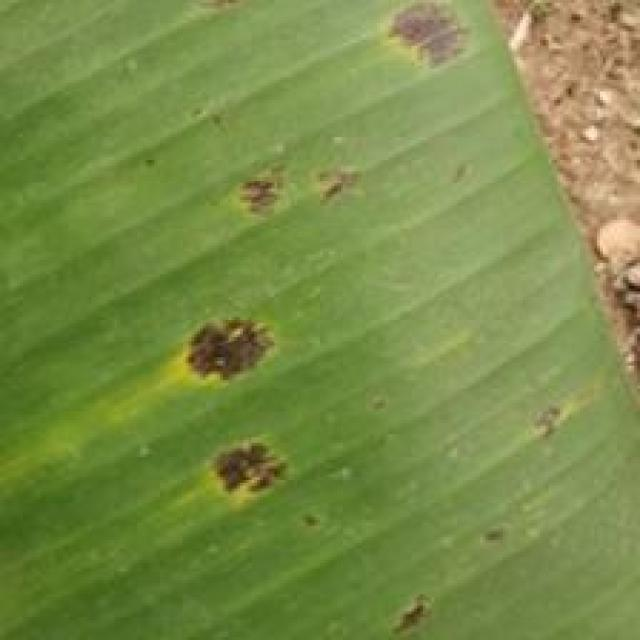Downey_mildrew: (119, 271, 398, 540), (178, 129, 438, 272), (342, 0, 494, 86), (505, 366, 582, 463), (382, 577, 478, 640), (465, 495, 523, 573)
